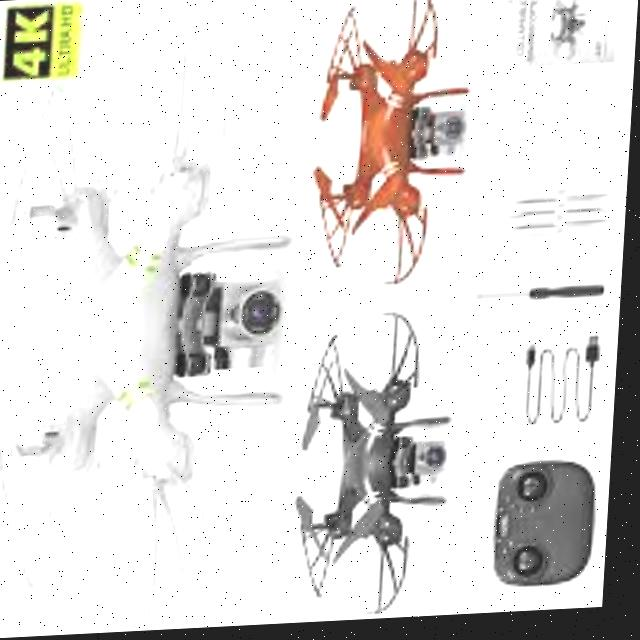drone: (0, 47, 306, 631), (277, 314, 476, 618), (296, 0, 489, 296)
